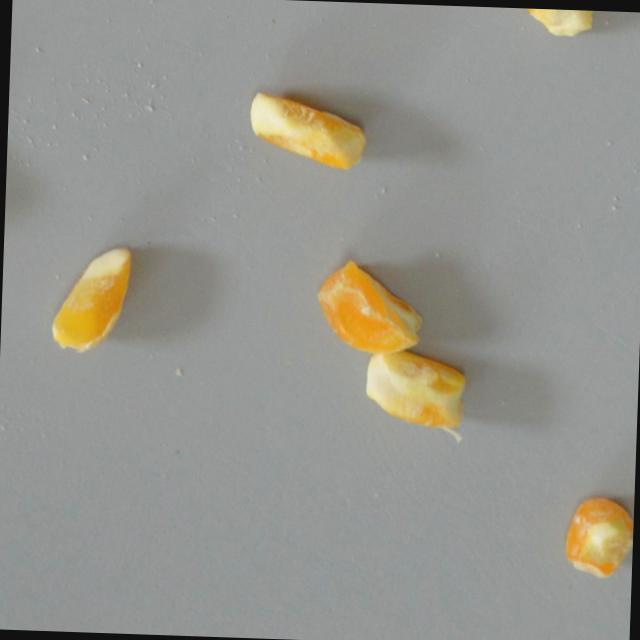dañado: (312, 254, 426, 360), (239, 83, 370, 175), (358, 346, 473, 446), (45, 238, 135, 357), (559, 491, 634, 583), (520, 7, 598, 41)
